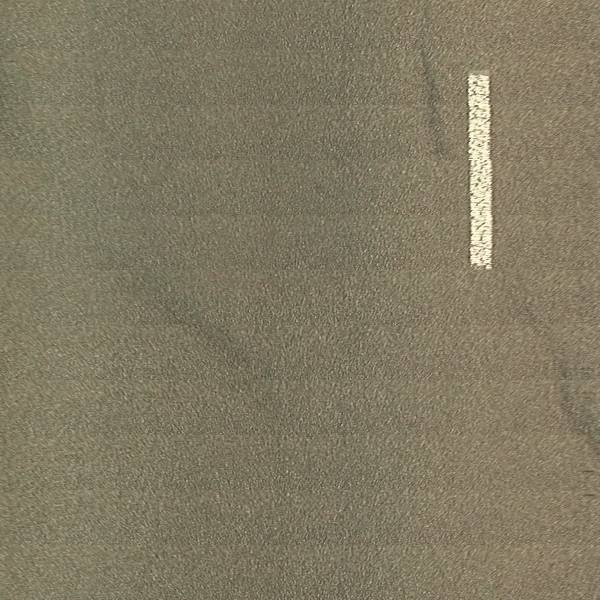road_damage: (524, 306, 600, 448), (410, 1, 456, 163)
